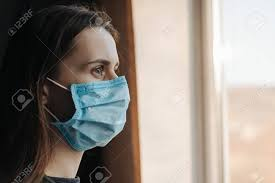with-mask: (29, 11, 136, 156)
